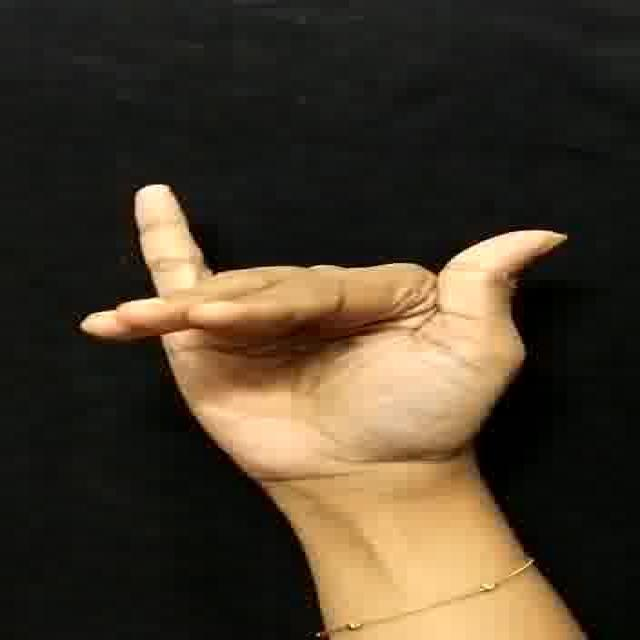mrighasheesh: (73, 166, 587, 494)
